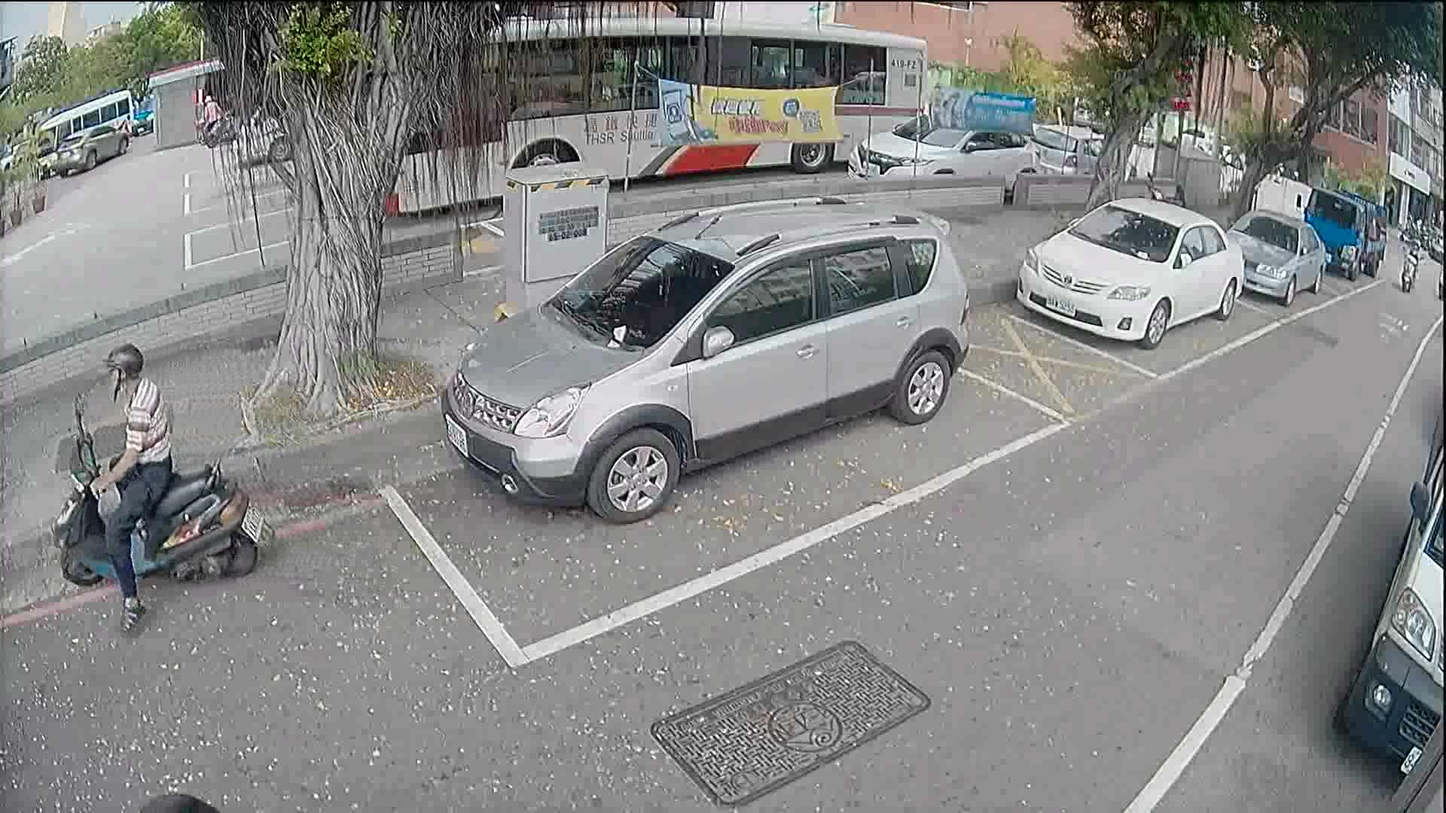person: (63, 344, 179, 639), (128, 790, 224, 812), (200, 92, 224, 130), (1405, 237, 1422, 273)
